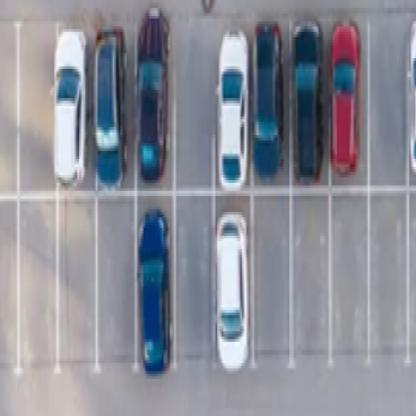Car: (58, 53, 93, 170), (97, 44, 128, 172), (140, 37, 165, 175), (220, 40, 244, 176), (255, 40, 282, 160), (221, 223, 244, 354), (142, 226, 167, 345), (299, 45, 321, 158), (337, 48, 357, 168)
Empty: (19, 209, 55, 342), (178, 219, 211, 349), (334, 217, 366, 333), (101, 214, 131, 336), (24, 53, 52, 178), (297, 216, 326, 336), (62, 224, 91, 343), (256, 226, 285, 345), (180, 66, 207, 175), (374, 228, 401, 333), (374, 54, 400, 162)
